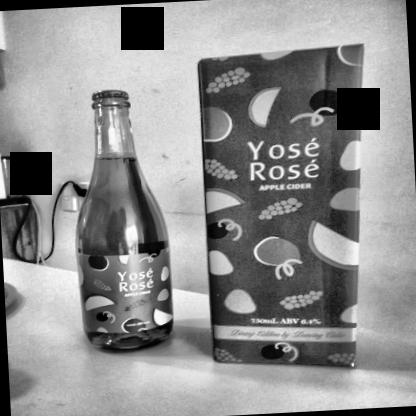yoserose: (80, 249, 176, 334)
